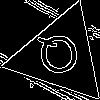Q: (35, 30, 84, 86)
